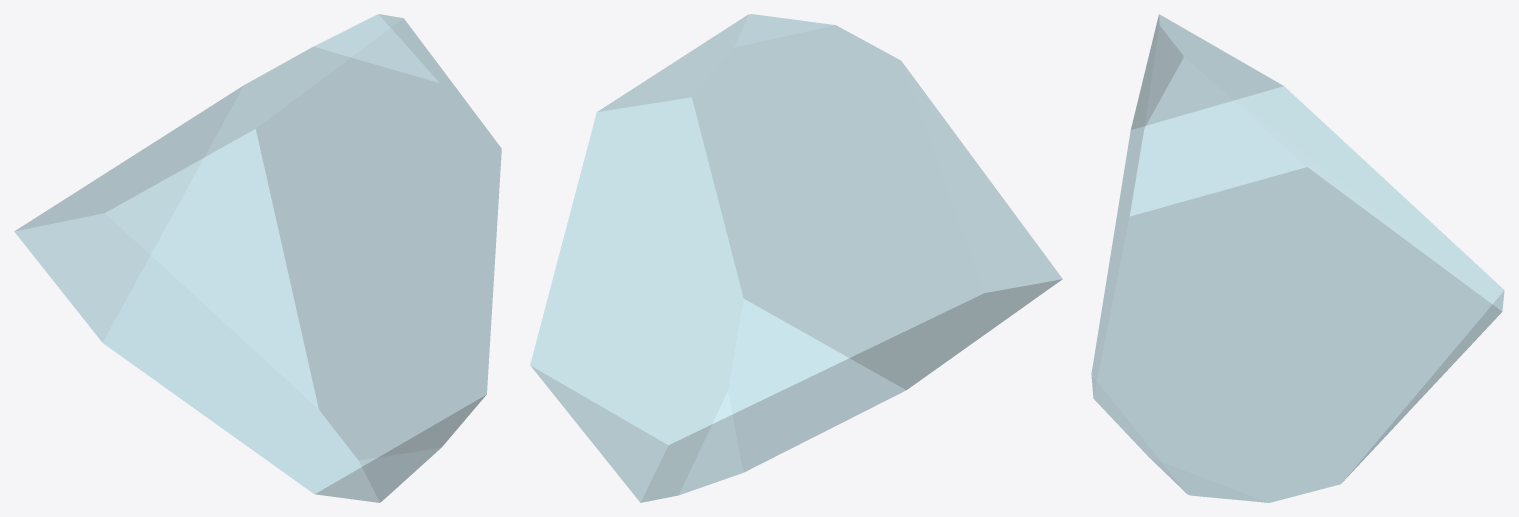
File: 92_oxygen.glb
3 views of the same model, side by side, from view 1: azimuth 30°, elevation 25°; view 2: azimuth 150°, elevation 25°; view 3: azimuth 270°, elevation 25° (orthographic). The views are drawn at different scales.
Bounding box in the file's own units: 2.47 × 2.88 × 2.47.
